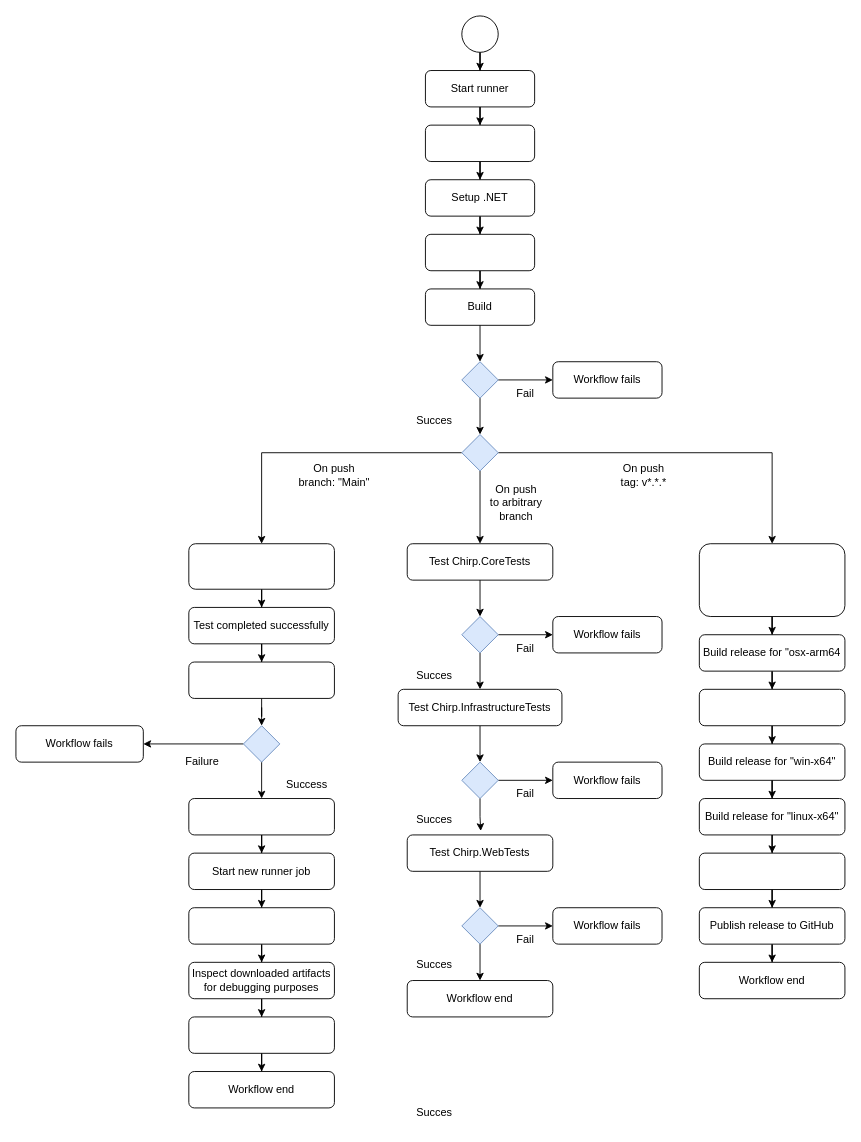
Some shapes in this 861 by 1142 pixel diagram are drawn without their labels. Each missing label, with the centre of its shape:
Build release for "osx-x64": the point at 771,707
Checkout repository: the point at 480,143
Compress releases to .zip and .tar: the point at 771,871
Declare runtime targets for Linux, Windows and MacOSX Arm and x64: the point at 771,580
Deploy artifacts to Azure Web App: the point at 261,1034
Download artifacts: the point at 261,925
Publish for Linux: the point at 261,679
Restore dependencies: the point at 480,252
Test workflow as specified in switch branch "On push to arbitrary brach": the point at 261,566
Upload artifacts: the point at 261,816
